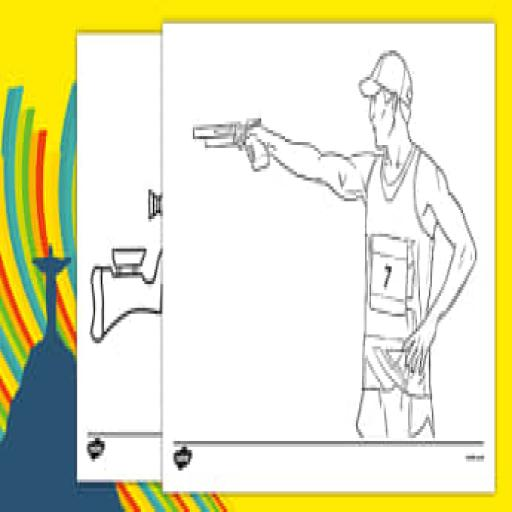shooting: (240, 47, 478, 444)
